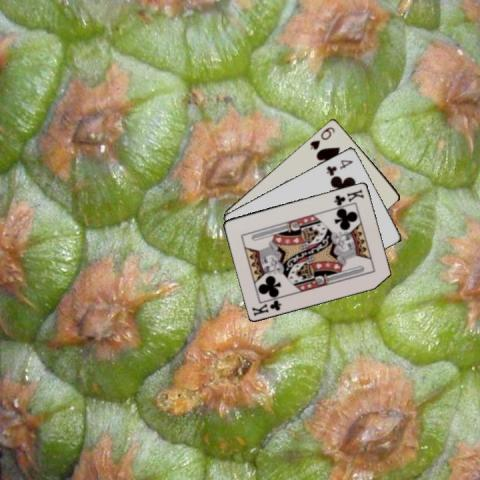4c: (323, 156, 355, 176)
6s: (306, 123, 336, 152)
Kc: (332, 186, 366, 207), (249, 297, 283, 317)
